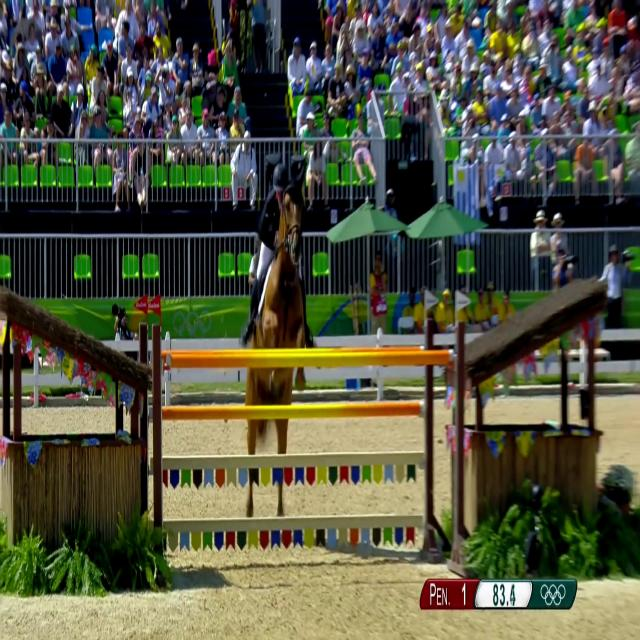Horse Jumping: (240, 159, 340, 504)
